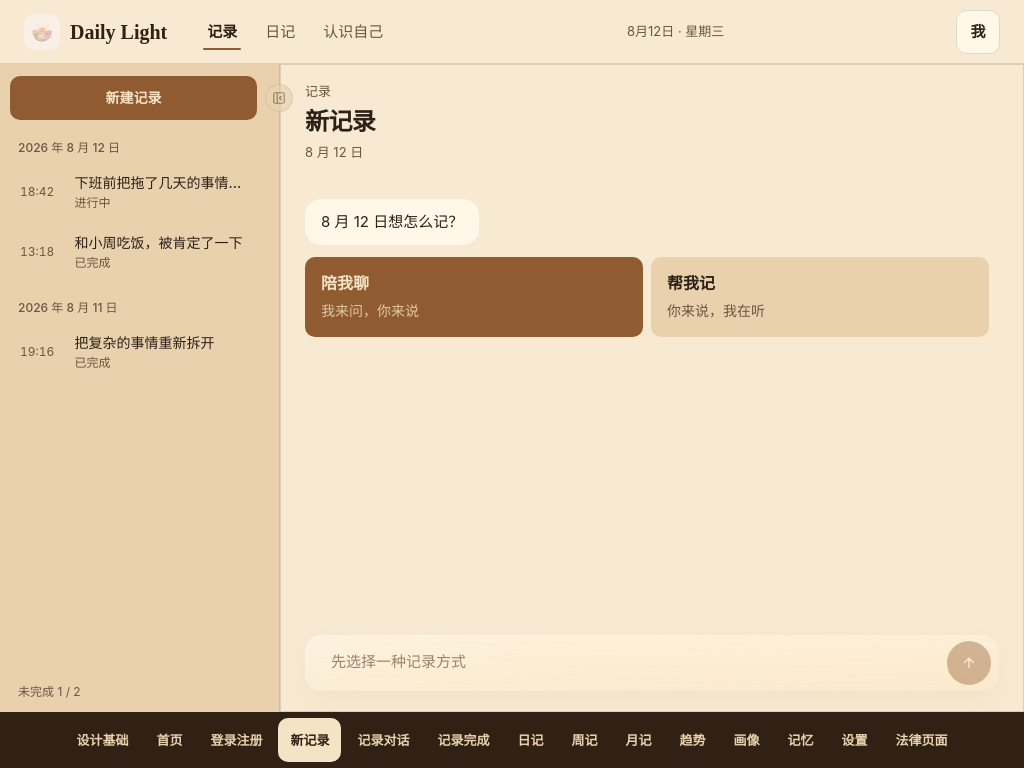
Test: Daily Light 视觉验收入口 › 侧栏切换后仍保留每条会话自己的记录方式
Click the button "陪我聊 我来问，你来说" at (345, 283), box [305,257,643,337]
Wait 450 ms
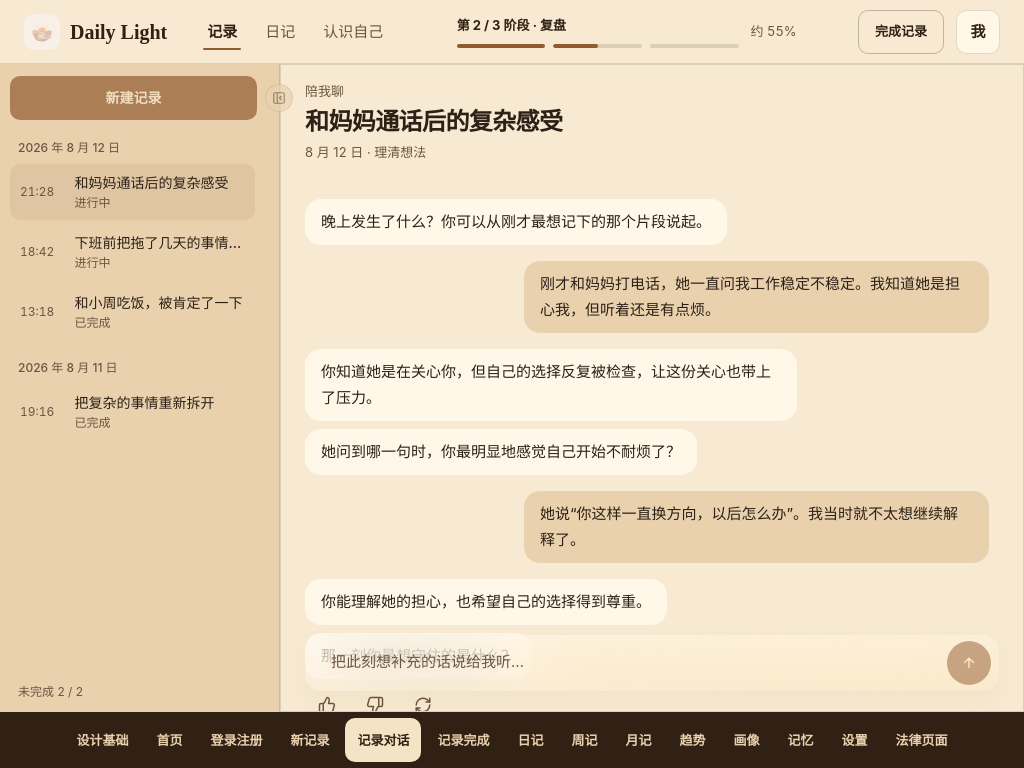
Check: the text "陪我聊" is shown, box [305,83,344,99]
Click the option "18:42 下班前把拖了几天的事情做完了 进行中" at (132, 252), box [10,224,255,280]
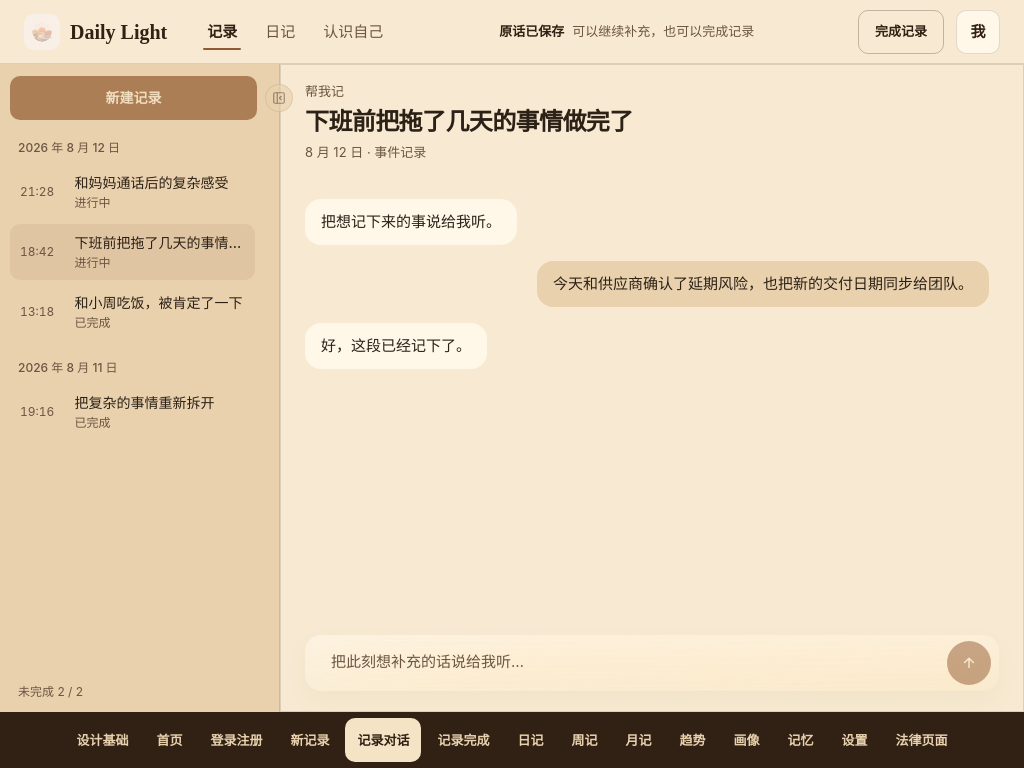
Check: the text "帮我记" is shown, box [305,83,344,99]
Click the option "21:28 和妈妈通话后的复杂感受 进行中" at (132, 192), box [10,164,255,220]
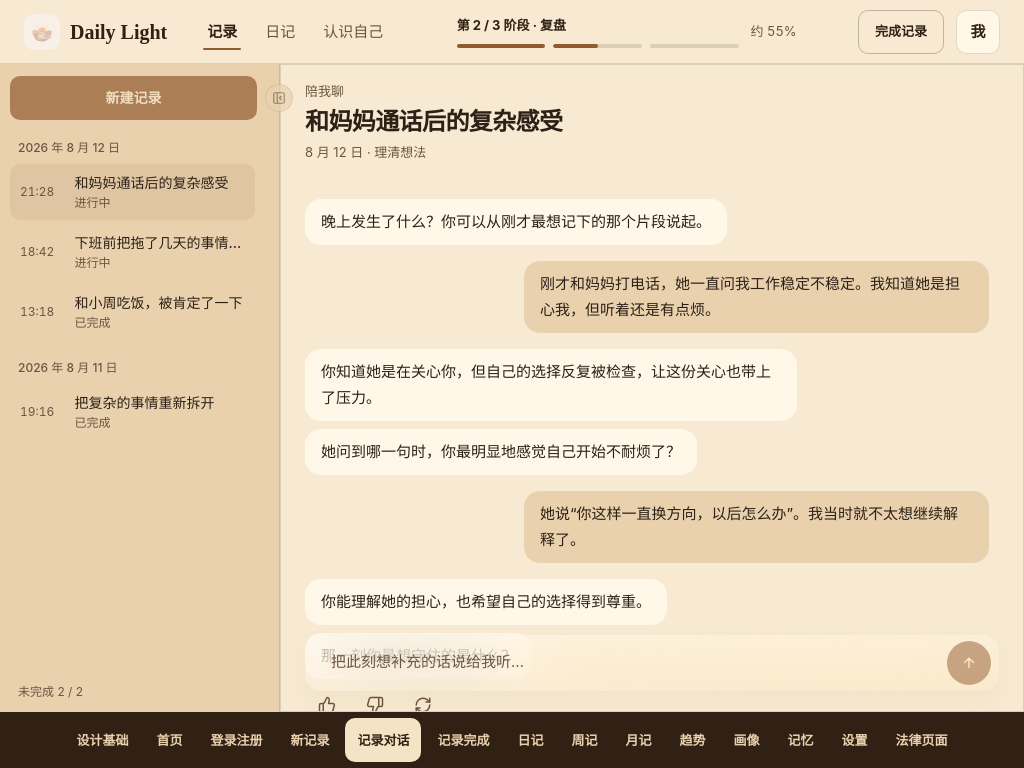
Check: the text "陪我聊" is shown, box [305,83,344,99]
